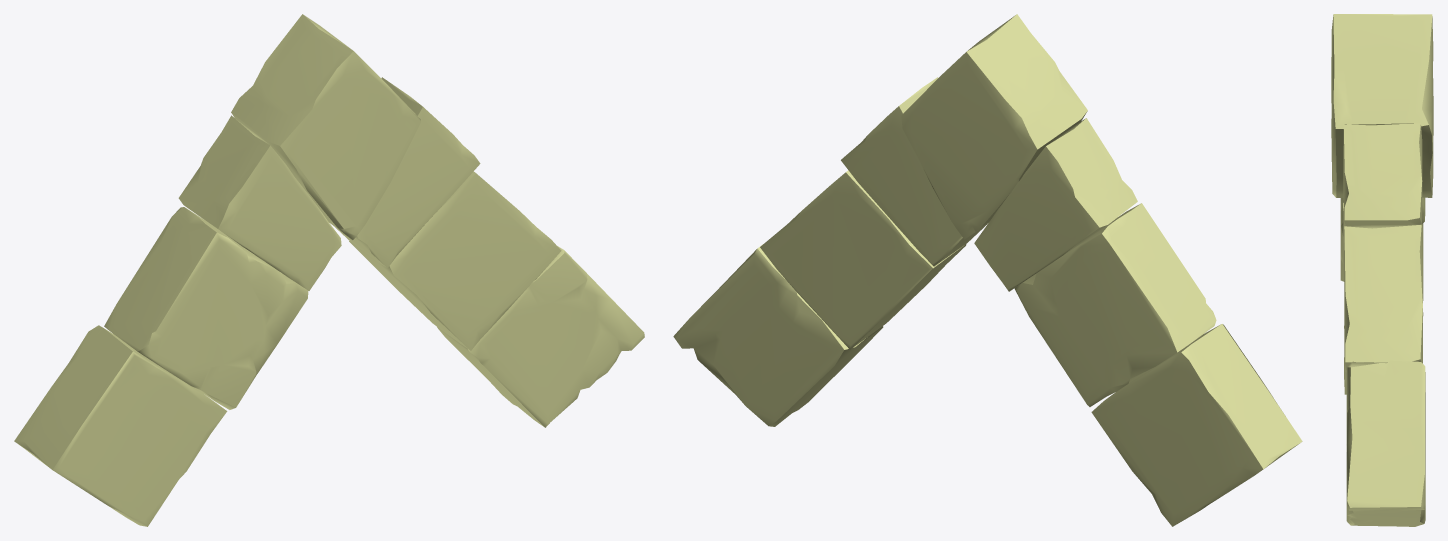
File: stone_element_20_lintel_07.fbx
3 renders of one model, left to right at view 1: azimuth 30°, elevation 25°; view 2: azimuth 150°, elevation 25°; view 3: azimuth 270°, elevation 25°, orthographic. The views are drawn at different scales.
Visible parts, largest first — view 1: stone_element_20_lintel_07_LOD0; view 2: stone_element_20_lintel_07_LOD0; view 3: stone_element_20_lintel_07_LOD0.
Boxes of the visible parts, x1,y1,x2,y2 form: stone_element_20_lintel_07_LOD0: (14,14,644,526); stone_element_20_lintel_07_LOD0: (673,14,1302,526); stone_element_20_lintel_07_LOD0: (1331,14,1433,526).
Size of what is drawn, in the model's own units: 255 by 178 by 39.33.
